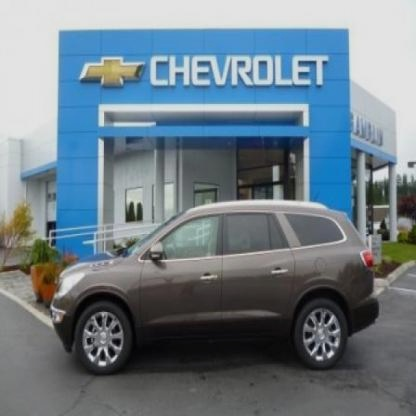Vehicle: (50, 198, 382, 376)
